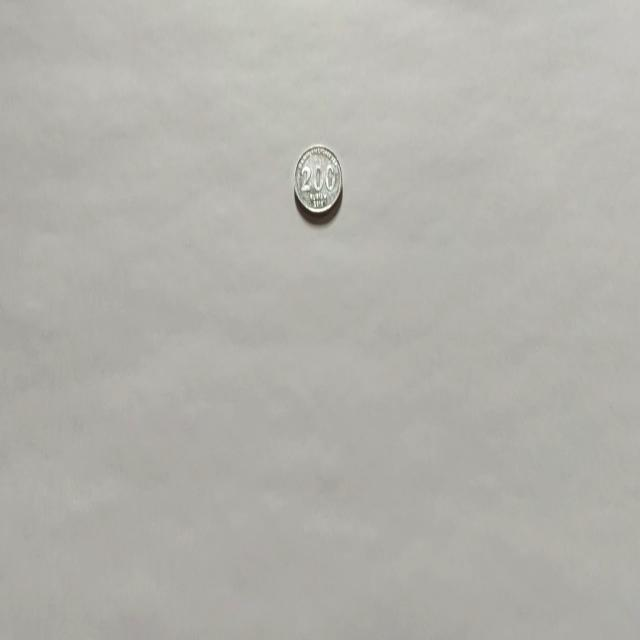dua ratus rupiah: (292, 142, 342, 219)
